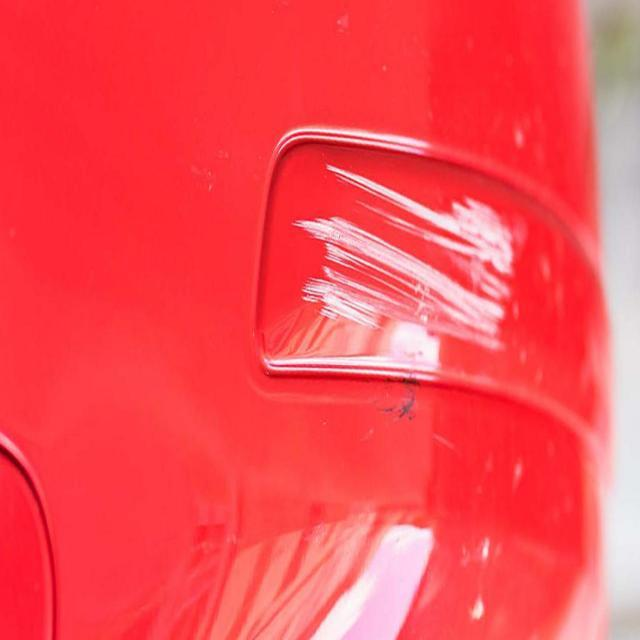scratch: (290, 156, 520, 360)
